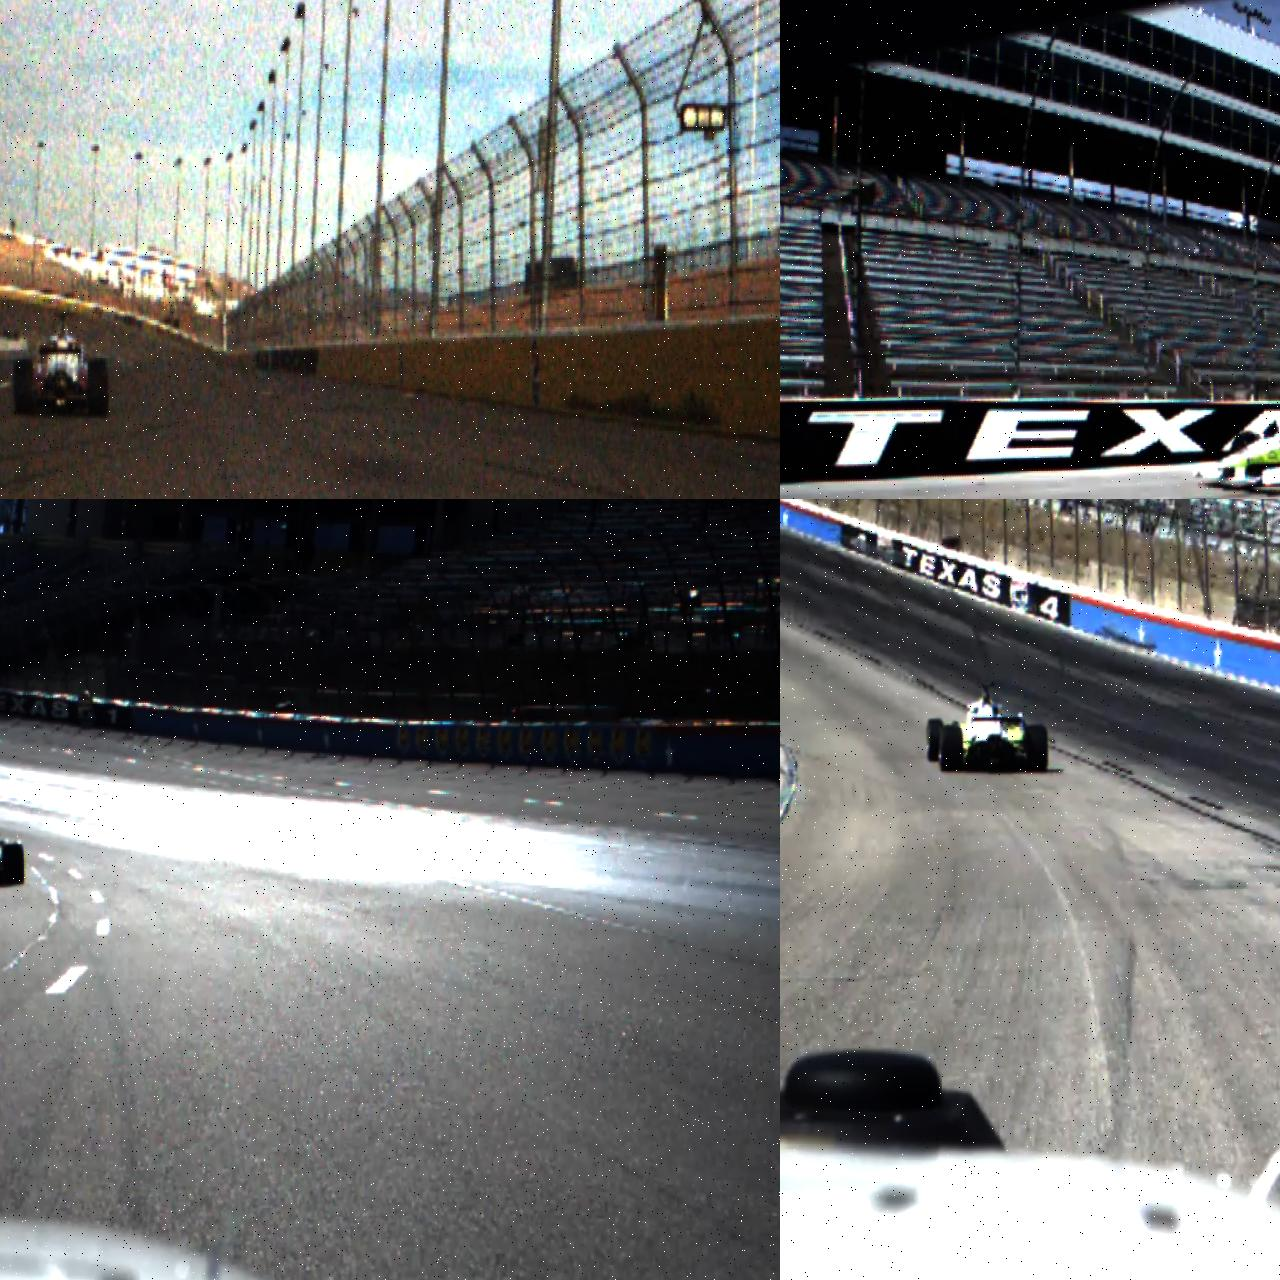AV: (924, 681, 1048, 775), (11, 311, 110, 420), (1193, 383, 1280, 493), (0, 805, 25, 893)
Wheel: (1230, 431, 1262, 485), (88, 358, 110, 418), (13, 358, 35, 415), (939, 726, 964, 772), (1024, 726, 1048, 772), (2, 844, 25, 885), (926, 719, 944, 762)
